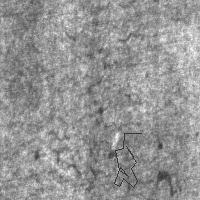crazing: (43, 109, 95, 193), (114, 133, 141, 187)
